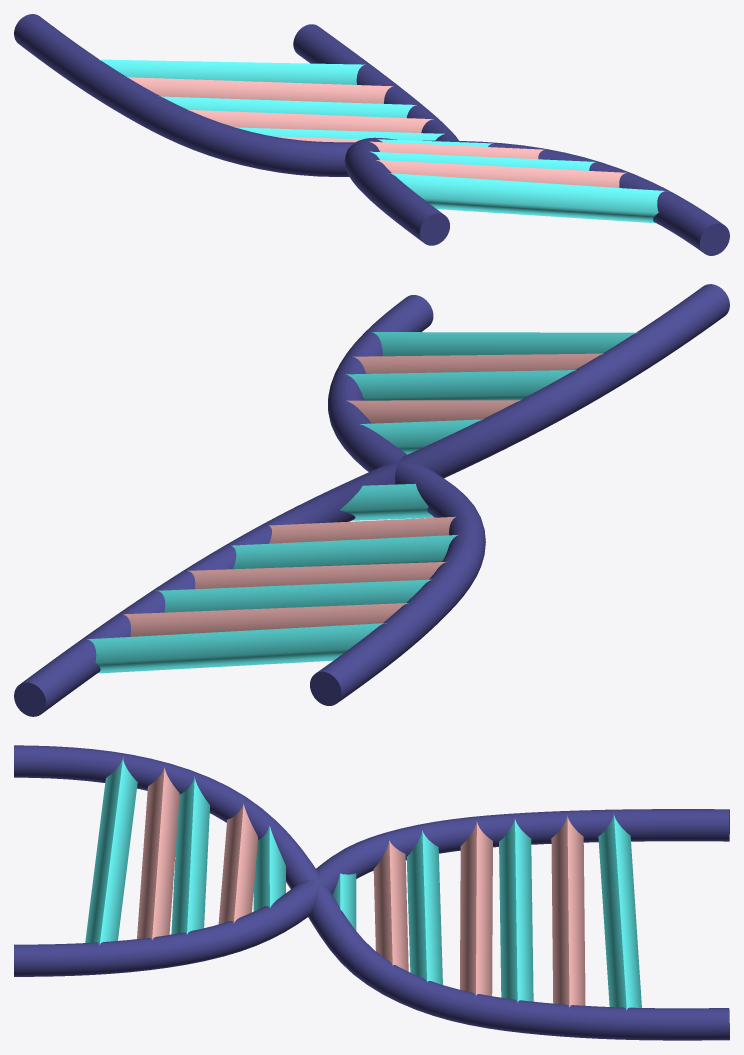
Rendered from dna.fbx.
3 views of the same model, one above another, from view 1: azimuth 30°, elevation 25°; view 2: azimuth 150°, elevation 25°; view 3: azimuth 270°, elevation 25° (orthographic). The views are drawn at different scales.
Visible parts, largest first — view 1: dna; view 2: dna; view 3: dna.
Boxes of the visible parts, <box> form: dna: <box>14,14,729,255</box>; dna: <box>14,284,729,716</box>; dna: <box>14,745,729,1040</box>.
Size of the model in its own units: 9.29 by 5.07 by 18.83.
